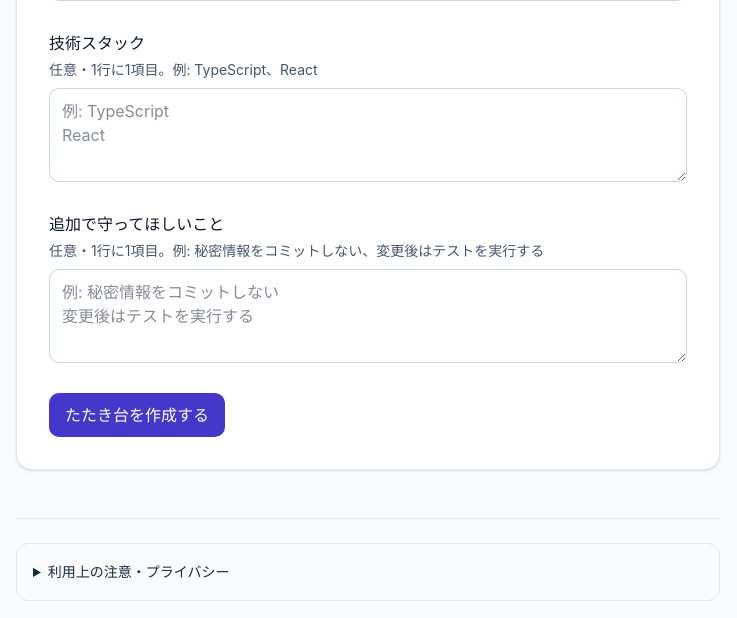
it: アプリケーション › 静的情報に実装と一致する入力データの扱い、生成結果の注意、問い合わせ先を表示する
The width and height of the screenshot is (737, 618).
(page scrolled)
Click the heading "利用上の注意・プライバシー".
click(139, 572)  # box x1=48 y1=563 x2=230 y2=580
(page scrolled)
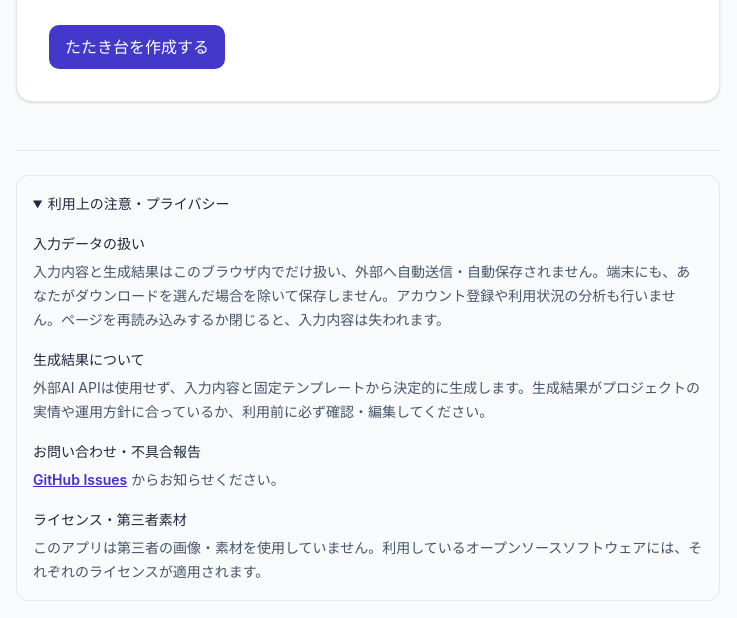
expect the text "ダウンロードを選んだ場合を除いて保存しません" is shown: met, box x1=33 y1=263 x2=690 y2=328
expect the text "外部AI APIは使用せず" is shown: met, box x1=33 y1=379 x2=700 y2=420
